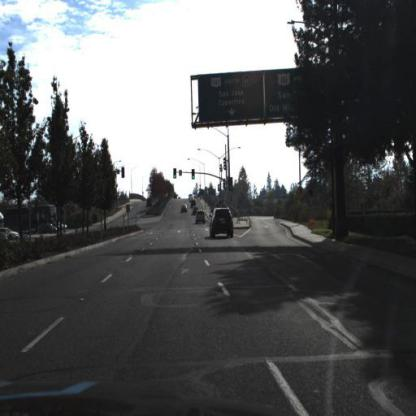car: (211, 207, 235, 238), (195, 208, 208, 231), (36, 222, 57, 236), (196, 210, 206, 225), (146, 196, 154, 210), (58, 223, 68, 232), (181, 205, 189, 215), (194, 206, 199, 218)
trafficLight-Green: (228, 176, 237, 195), (171, 164, 179, 183), (191, 166, 197, 184), (228, 179, 234, 194), (174, 169, 178, 181), (192, 169, 196, 181)
truck: (3, 207, 57, 228)
